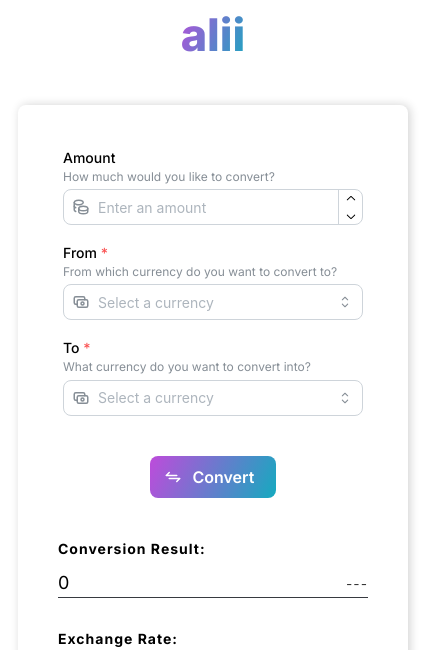
Scenario: <HomePageLayout /> › User interactions › should remove error messages when the user selects a currency
What coordinates should you click on to do the following:
click the button "Convert"
I would click on:
 (213, 477)
Its box is 150,456 -> 276,498.
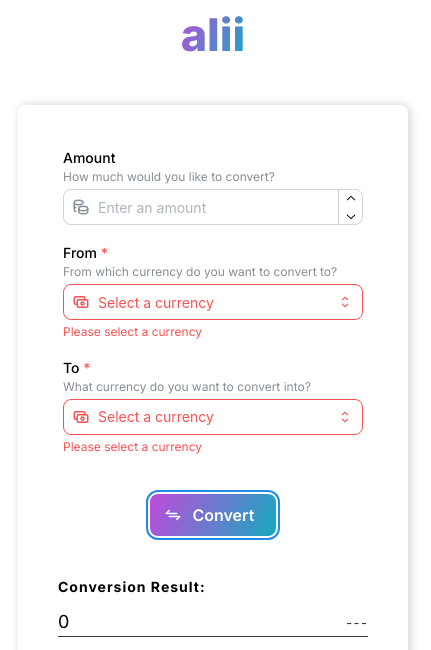
What coordinates should you click on to do the following:
click the field with test id "from-select-id"
I would click on:
 (213, 302)
Its box is 63,284 -> 363,320.
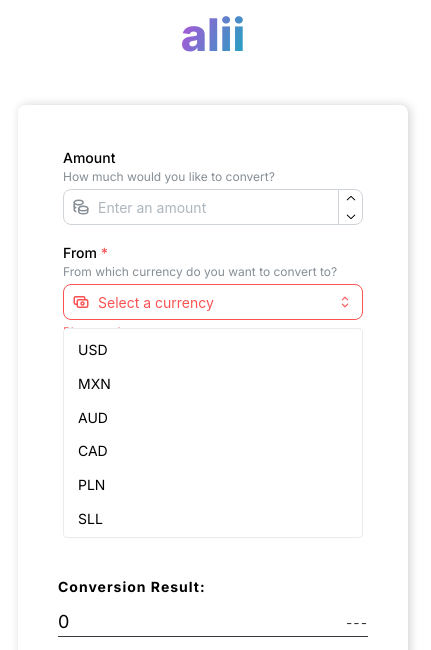
What coordinates should you click on to do the following:
click the option "USD"
I would click on:
 (93, 350)
Its box is 78,341 -> 108,358.
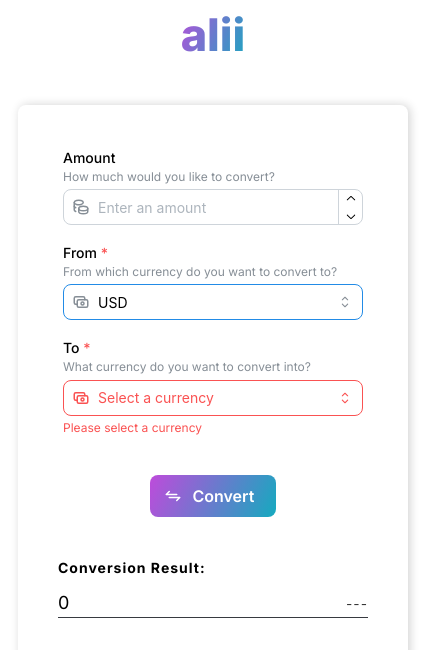
What coordinates should you click on to do the following:
click the field with test id "to-select-id"
I would click on:
 (213, 398)
Its box is 63,380 -> 363,416.
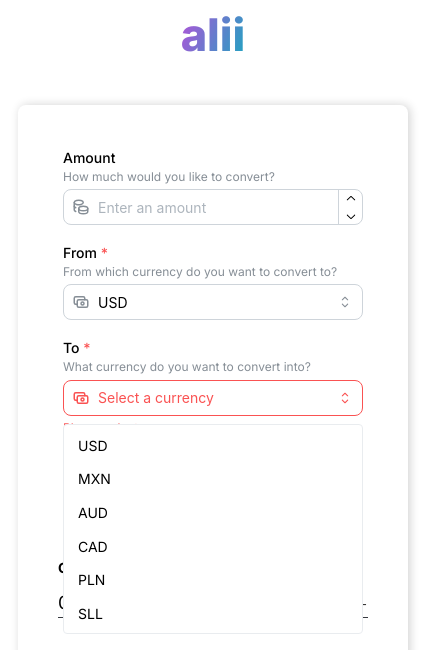
What coordinates should you click on to do the following:
click the option "MXN"
I would click on:
 (94, 479)
Its box is 78,470 -> 111,487.
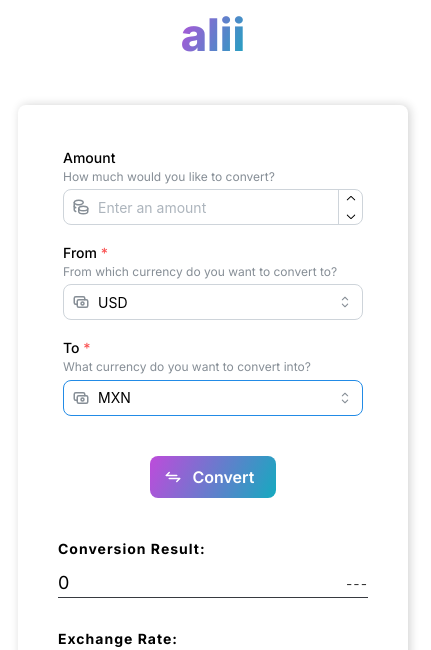
Result: the text "Please select a currency" is not shown
